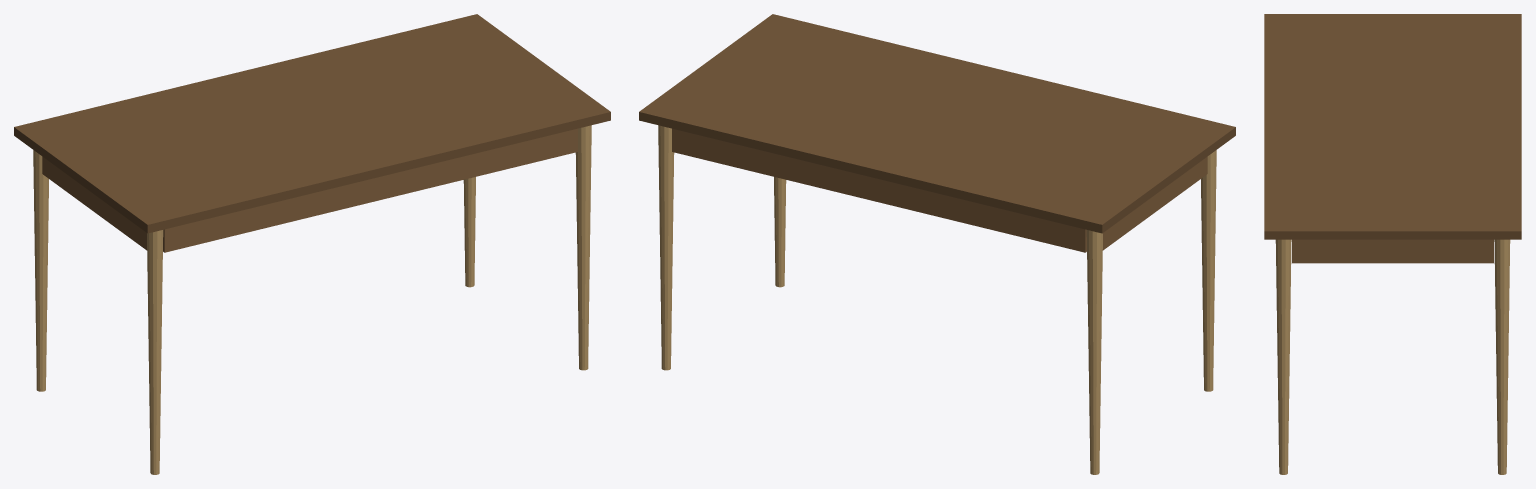
File: ATL-DSK-wide.glb
3 views of the same model, side by side, from view 1: azimuth 30°, elevation 25°; view 2: azimuth 150°, elevation 25°; view 3: azimuth 270°, elevation 25° (orthographic). The views are drawn at different scales.
Parts seen in each view (by area): view 1: top:pbr, apron-f:pbr, leg-fl:pbr, leg-fr:pbr, leg-bl:pbr, apron-l:pbr, leg-br:pbr; view 2: top:pbr, apron-b:pbr, leg-bl:pbr, leg-br:pbr, leg-fl:pbr, apron-l:pbr, leg-fr:pbr; view 3: top:pbr, apron-r:pbr, leg-fr:pbr, leg-br:pbr.
Boxes of the visible parts, box(x1,y1,x2,y2) form: top:pbr: box(14, 14, 610, 233); apron-f:pbr: box(163, 128, 577, 252); leg-fl:pbr: box(147, 230, 163, 474); leg-fr:pbr: box(575, 125, 591, 370); leg-bl:pbr: box(33, 150, 48, 391); apron-l:pbr: box(42, 156, 147, 250); leg-br:pbr: box(463, 177, 475, 287); top:pbr: box(639, 14, 1235, 233); apron-b:pbr: box(672, 128, 1086, 252); leg-bl:pbr: box(1086, 230, 1102, 474); leg-br:pbr: box(658, 125, 674, 370); leg-fl:pbr: box(1201, 150, 1216, 391); apron-l:pbr: box(1102, 156, 1207, 250); leg-fr:pbr: box(774, 177, 786, 287); top:pbr: box(1264, 14, 1521, 239); apron-r:pbr: box(1292, 239, 1493, 263); leg-fr:pbr: box(1275, 239, 1291, 474); leg-br:pbr: box(1494, 239, 1510, 474).
Bounding box in the file's own units: 1.4 × 0.75 × 0.7.
